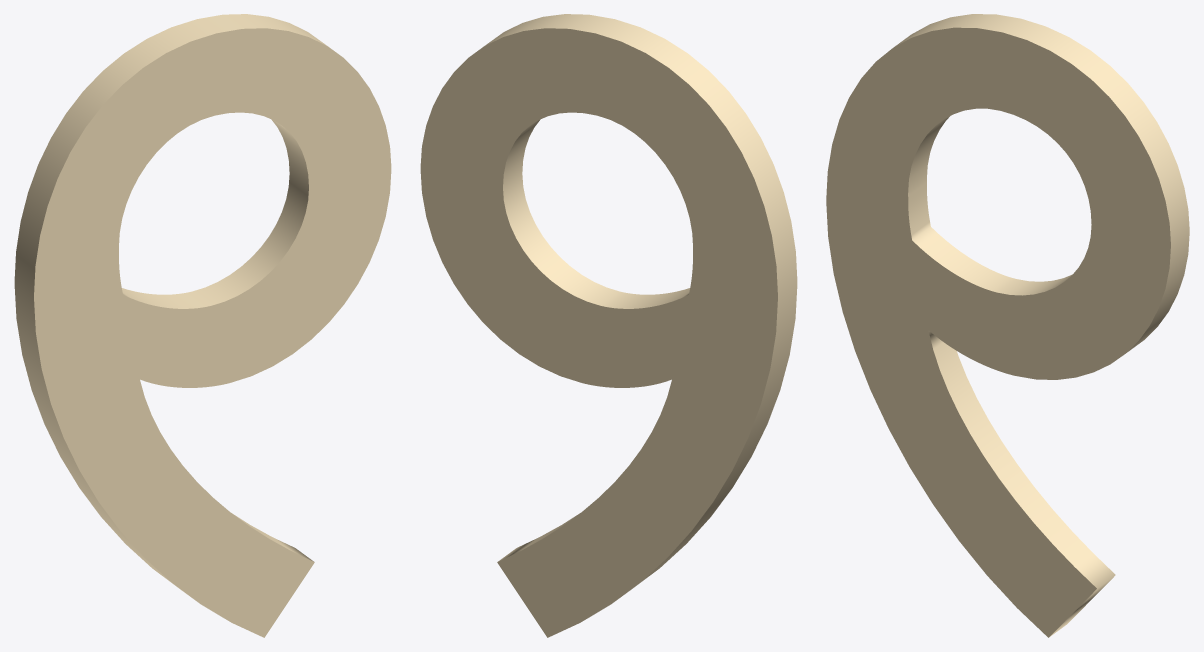
The picture shows the model from 3 angles, left to right: view 1: azimuth 30°, elevation 25°; view 2: azimuth 150°, elevation 25°; view 3: azimuth 330°, elevation 25°; orthographic projection. The views are drawn at different scales.
Visible parts, largest first — view 1: テキスト; view 2: テキスト; view 3: テキスト.
Boxes of the visible parts, x1,y1,x2,y2 form: テキスト: (14,14,391,637); テキスト: (420,14,797,637); テキスト: (826,14,1189,637).
Bounding box in the file's own units: 0.425 × 0.7 × 0.04.
